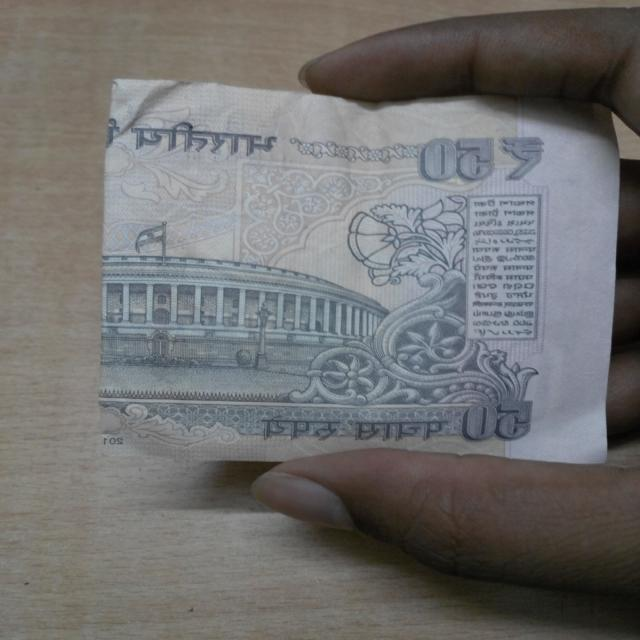50rs: (96, 82, 620, 466)
